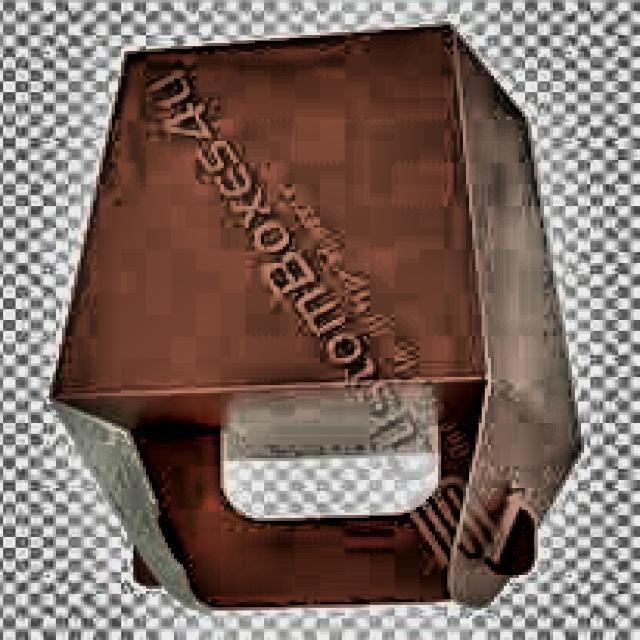cardboard: (50, 24, 588, 616)
